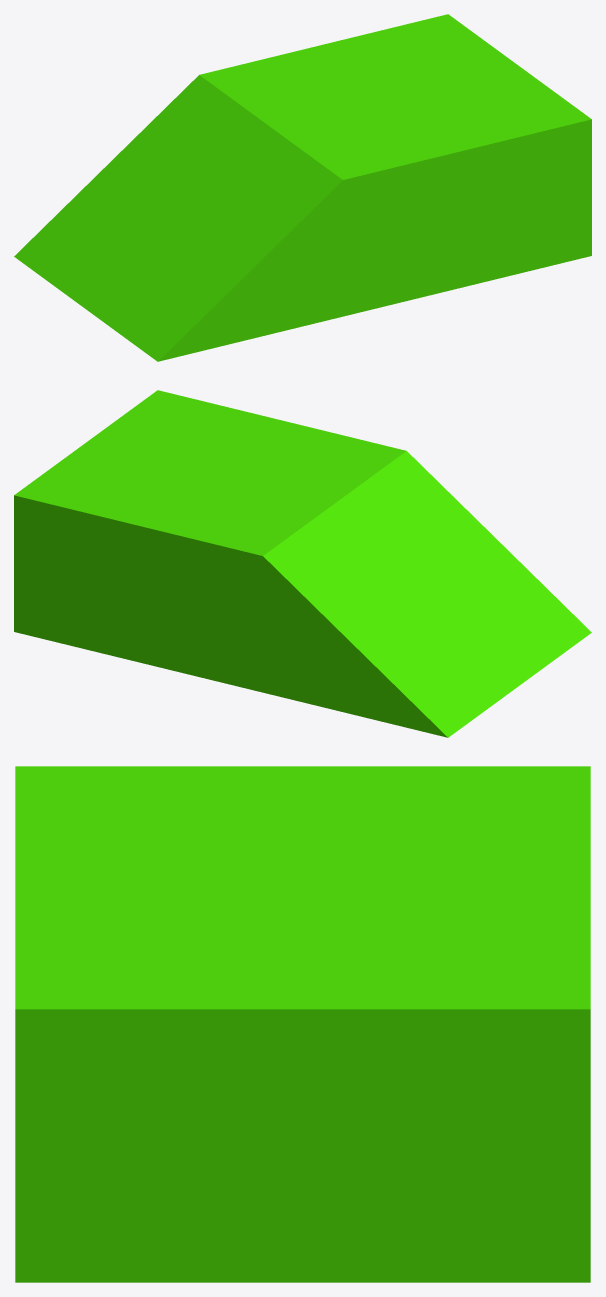
The model's file is Playergym64.fbx.
3 renders of one model, top to bottom at view 1: azimuth 30°, elevation 25°; view 2: azimuth 150°, elevation 25°; view 3: azimuth 270°, elevation 25°, orthographic. The views are drawn at different scales.
Visible parts, largest first — view 1: SM_PLayerGym.008; view 2: SM_PLayerGym.008; view 3: SM_PLayerGym.008.
Boxes of the visible parts, x1=… form: SM_PLayerGym.008: x1=14, y1=14, x2=591, y2=361; SM_PLayerGym.008: x1=14, y1=390, x2=591, y2=737; SM_PLayerGym.008: x1=15, y1=766, x2=590, y2=1282.
Bounding box in the file's own units: 349 × 105 × 200.
